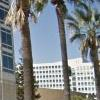Palm tree: (44, 3, 100, 74)
